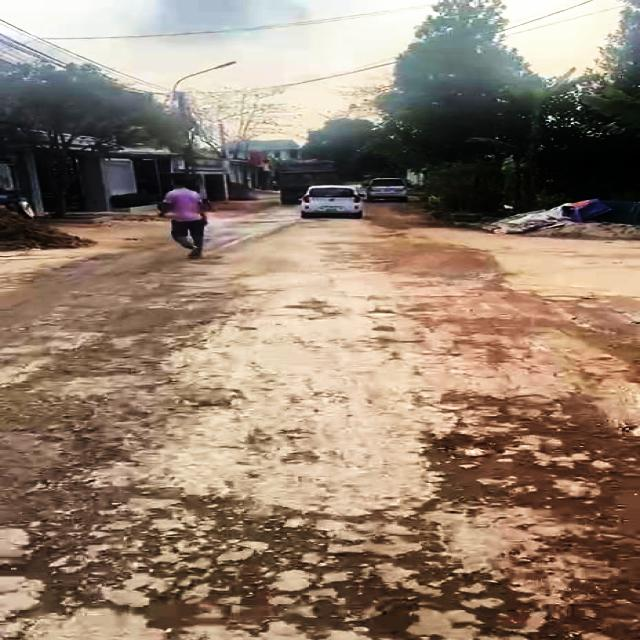pothole: (419, 428, 640, 524), (450, 566, 636, 640), (329, 597, 430, 640), (131, 588, 203, 632)
